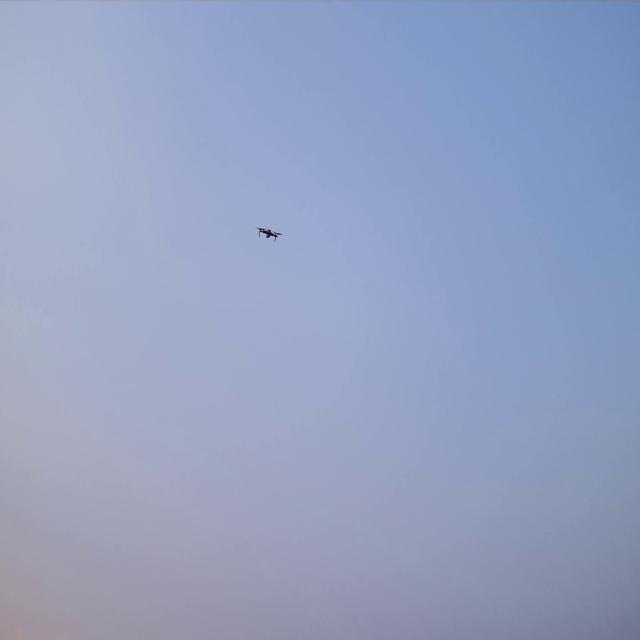UAV: (255, 225, 283, 242)
